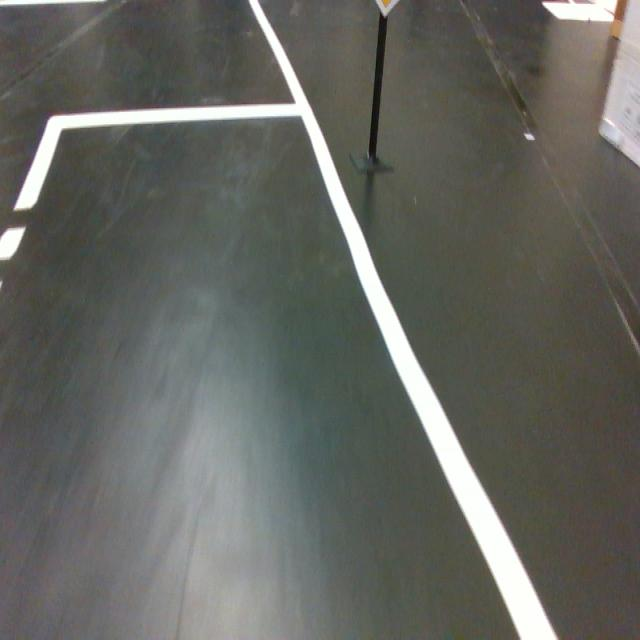priority-sign: (374, 0, 401, 19)
